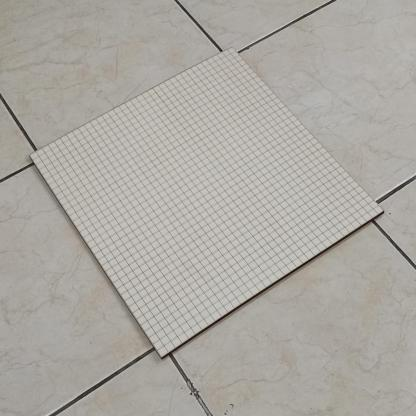grid: (27, 41, 391, 363)
